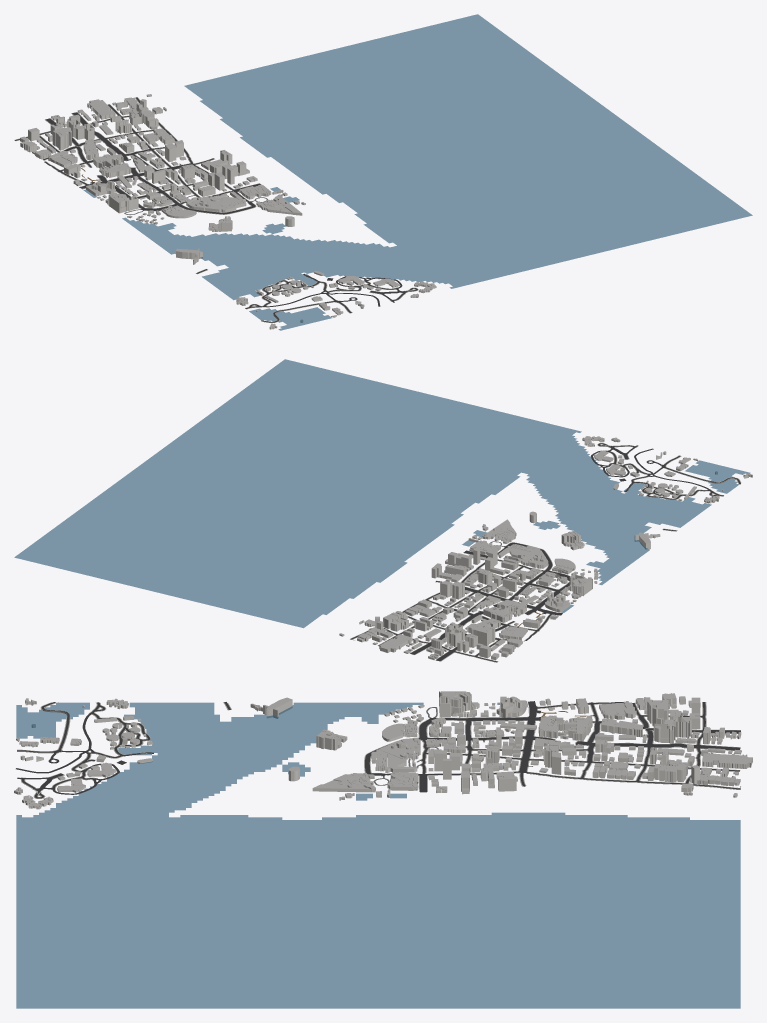
File: chunk_9_5.glb
The picture shows the model from 3 angles, top to bottom: view 1: azimuth 30°, elevation 25°; view 2: azimuth 150°, elevation 25°; view 3: azimuth 270°, elevation 25°; orthographic projection. The views are drawn at different scales.
Parts seen in each view (by area): view 1: Water_9_5, Buildings_9_5, Roads_9_5, Filler_9_5, RoadSides_9_5; view 2: Water_9_5, Buildings_9_5, Roads_9_5, Filler_9_5, RoadSides_9_5; view 3: Water_9_5, Buildings_9_5, Roads_9_5, Filler_9_5, RoadSides_9_5.
Part boxes in pixels (<box>): Water_9_5: <box>83,14,752,330</box>; Buildings_9_5: <box>20,94,436,329</box>; Roads_9_5: <box>14,97,417,322</box>; Filler_9_5: <box>20,102,381,291</box>; RoadSides_9_5: <box>15,97,418,323</box>; Water_9_5: <box>14,359,749,627</box>; Buildings_9_5: <box>339,436,752,660</box>; Roads_9_5: <box>350,443,740,662</box>; Filler_9_5: <box>372,455,653,657</box>; RoadSides_9_5: <box>350,443,741,662</box>; Water_9_5: <box>16,702,740,1008</box>; Buildings_9_5: <box>14,691,752,809</box>; Roads_9_5: <box>16,701,740,798</box>; Filler_9_5: <box>57,696,741,797</box>; RoadSides_9_5: <box>17,701,740,798</box>.
Bounding box in the file's own units: 2060 × 71.38 × 2089.
